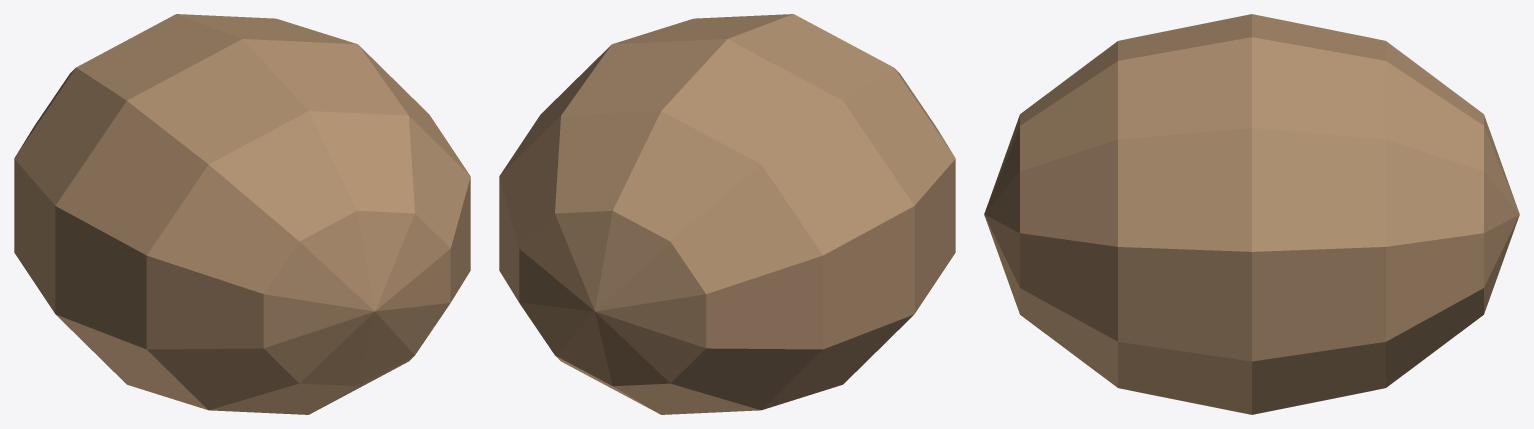
The model's file is fruit17.fbx.
3 views of the same model, side by side, from view 1: azimuth 30°, elevation 25°; view 2: azimuth 150°, elevation 25°; view 3: azimuth 270°, elevation 25° (orthographic).
Parts seen in each view (by area): view 1: Sphere.002; view 2: Sphere.002; view 3: Sphere.002.
Boxes of the visible parts, bbox=[...] form: Sphere.002: bbox=[14, 14, 470, 414]; Sphere.002: bbox=[499, 14, 955, 414]; Sphere.002: bbox=[984, 14, 1519, 414].
Size of the model in its own units: 0.0741 by 0.0664 by 0.0909.
